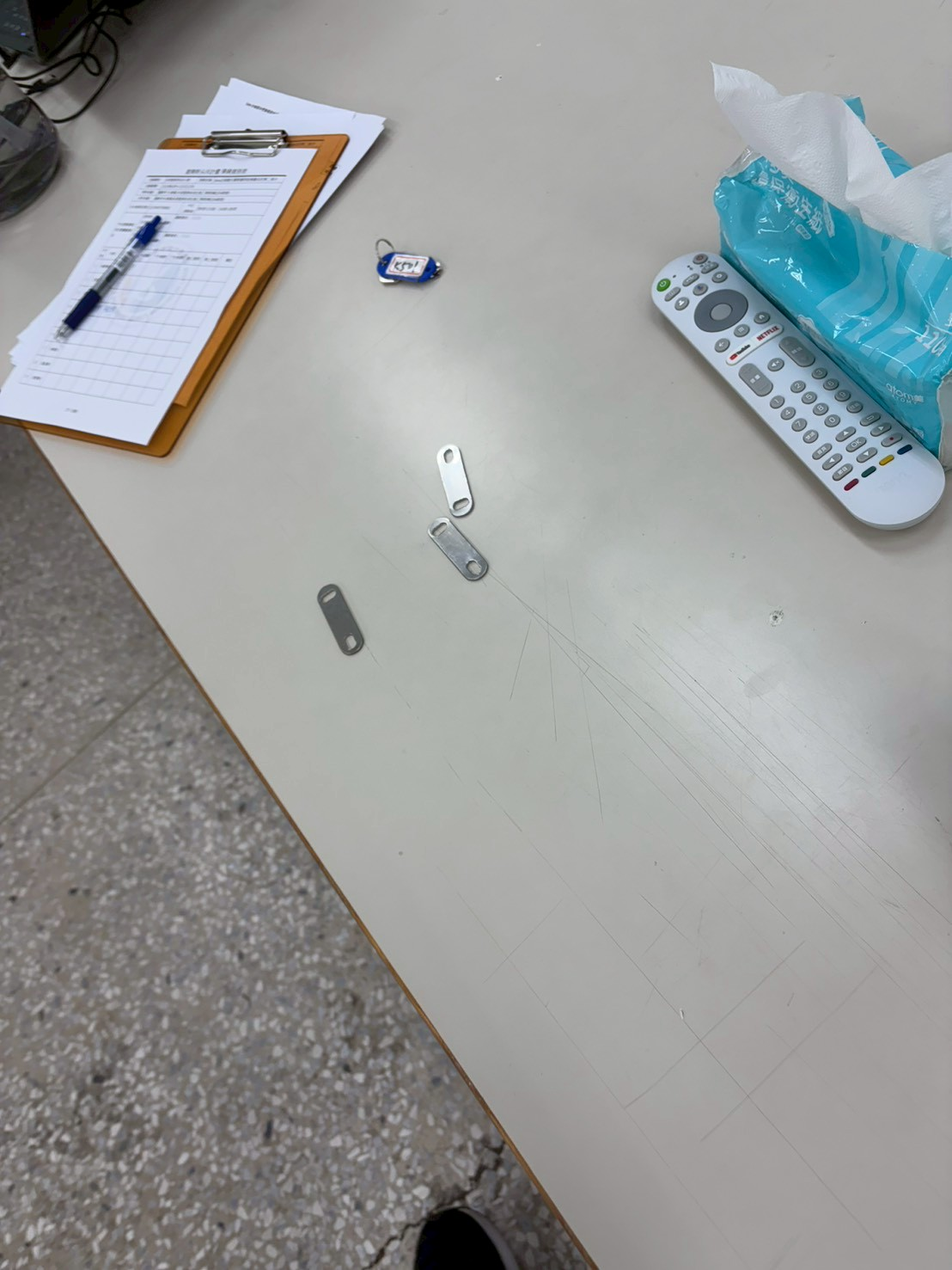Fe: (427, 444, 458, 523), (420, 529, 450, 609), (308, 591, 338, 670)
